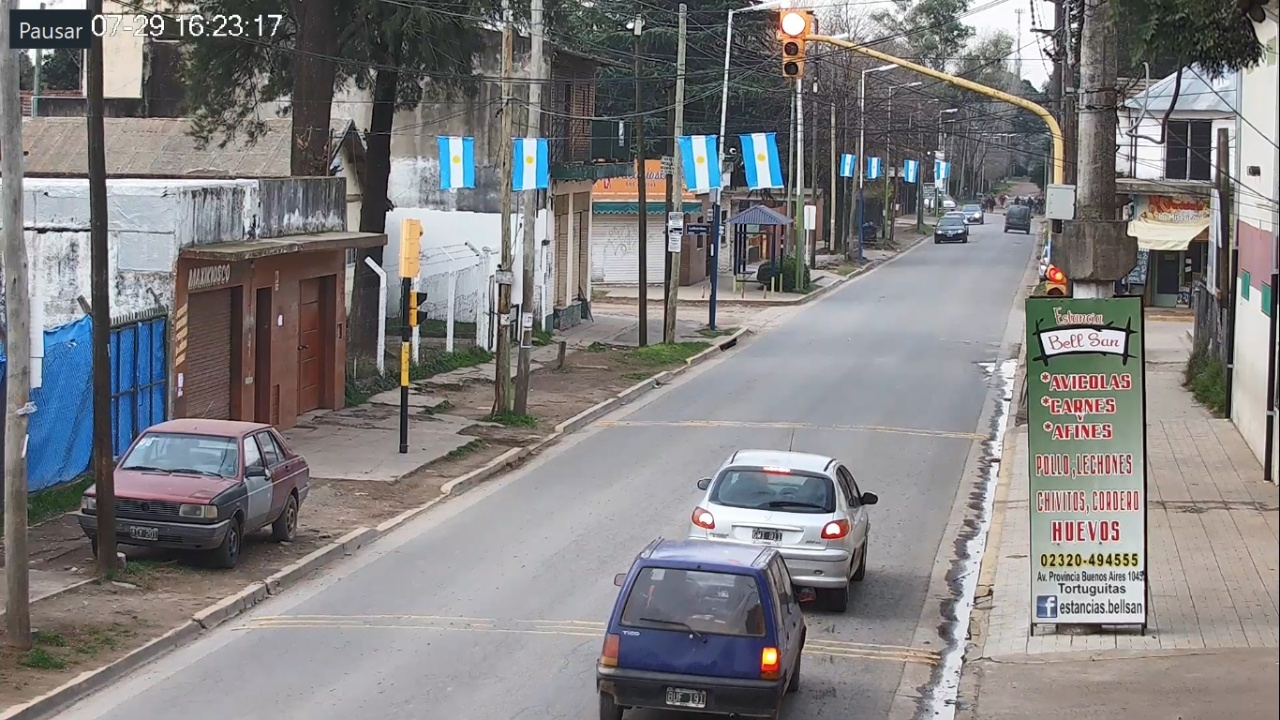car: (595, 539, 815, 720)
front car: (78, 417, 310, 569)
traffic light: (783, 11, 803, 77)
